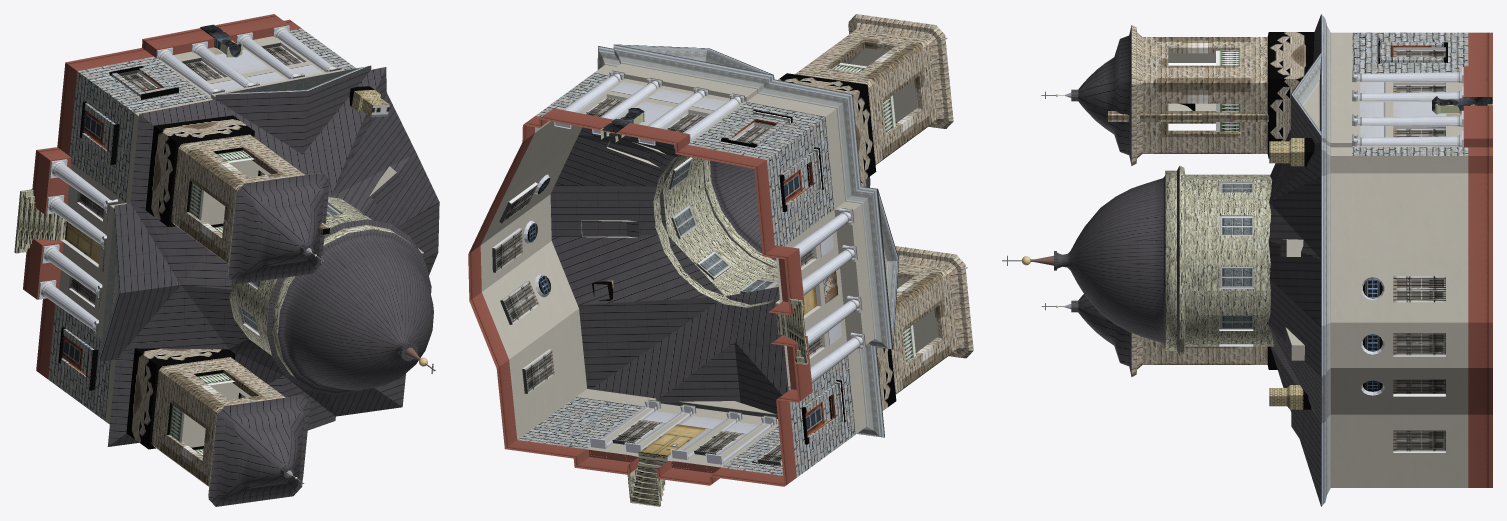
Rendered from Vene_24.obj.
3 renders of one model, left to right at view 1: azimuth 30°, elevation 25°; view 2: azimuth 150°, elevation 25°; view 3: azimuth 270°, elevation 25°, orthographic. The views are drawn at different scales.
Visible parts, largest first — view 1: Vene_24; view 2: Vene_24; view 3: Vene_24.
Boxes of the visible parts, x1,y1,x2,y2 form: Vene_24: (14, 14, 439, 506); Vene_24: (468, 14, 973, 506); Vene_24: (1002, 14, 1492, 506).
Bounding box in the file's own units: 23.95 × 24.63 × 29.48.
